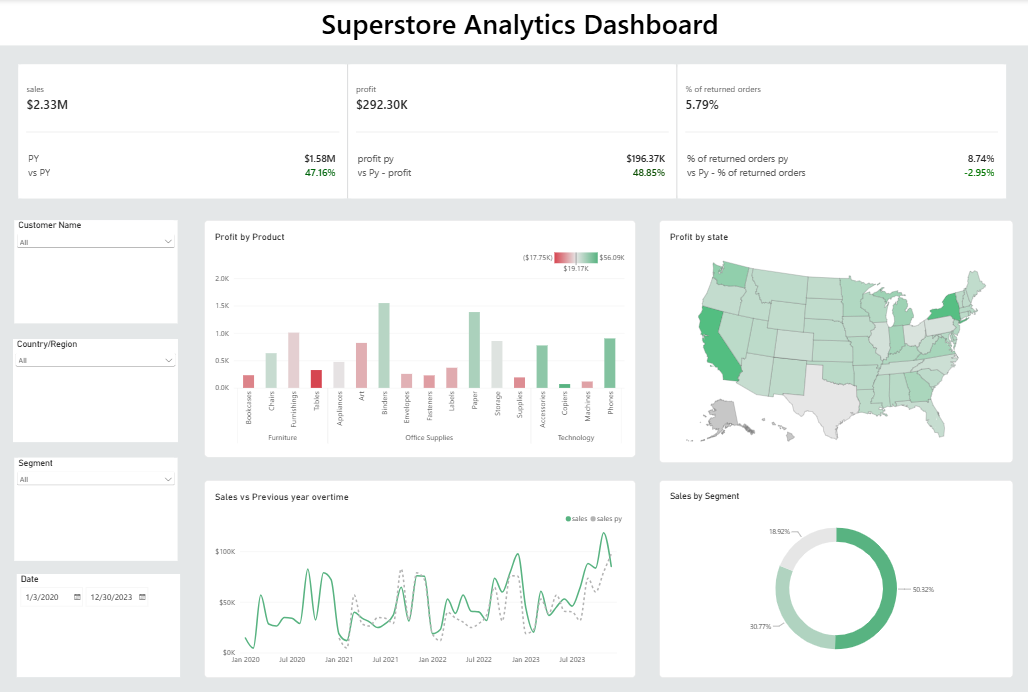

The dashboard page shown, as its layout file describes it:
{"tool":"powerbi","page":{"name":"Page 1","canvas":[2000,1350],"ordinal":0},"visuals":[{"type":"cardVisual","fields":{"Data":["key measures.sales","key measures.profit","key measures.% of returned orders"]},"box":[20,120,1956.7,280],"z":0},{"type":"shape","box":[0,0,2000,90],"z":1000},{"type":"lineChart","title":"Sales vs Previous year overtime ","fields":{"Category":["Date table.start of month"],"Y":["key measures.sales","key measures.sales py"]},"box":[400,933.3,836.7,383.3],"z":2000,"group":"g1"},{"type":"columnChart","title":"Profit by Product","fields":{"Category":["Orders.Category","Orders.Sub-Category"],"Y":["CountNonNull(Orders.Profit)"]},"box":[400,430,836.7,460],"z":3000,"group":"g1"},{"type":"shapeMap","title":"Profit by state","fields":{"Category":["Orders.State/Province"],"Value":["key measures.profit"]},"box":[1283.3,430,686.7,470],"z":4000,"group":"g1"},{"type":"donutChart","title":"Sales by Segment","fields":{"Category":["Orders.Segment"],"Y":["key measures.sales"]},"box":[1283.3,933.3,686.7,383.3],"z":5000,"group":"g1"},{"type":"slicer","fields":{"Values":["Orders.Customer Name"]},"box":[33.3,430,316.7,200],"z":5500,"group":"g1"},{"type":"slicer","fields":{"Values":["Orders.Segment"]},"box":[33.3,890,316.7,200],"z":6000,"group":"g1"},{"type":"slicer","fields":{"Values":["Date table.Date"]},"box":[36.7,1116.7,316.7,200],"z":6500,"group":"g1"},{"type":"slicer","fields":{"Values":["Orders.Country/Region"]},"box":[30,660,320,200],"z":7000,"group":"g1"},{"type":"group","id":"g1","title":"Group 1","box":[30,430,1940,886.7],"z":7001}]}

Visuals, with their boxes in screenshot pixels (x1, y1, x2, y2), scaled from the page's 2000x1350 canvas onto the 1028x692 screenshot:
cardVisual - key measures.sales x key measures.profit: {"x1": 10, "y1": 62, "x2": 1016, "y2": 205}
shape: {"x1": 0, "y1": 0, "x2": 1027, "y2": 46}
"Sales vs Previous year overtime " lineChart: {"x1": 206, "y1": 478, "x2": 636, "y2": 675}
"Profit by Product" columnChart: {"x1": 206, "y1": 220, "x2": 636, "y2": 456}
"Profit by state" shapeMap: {"x1": 660, "y1": 220, "x2": 1013, "y2": 461}
"Sales by Segment" donutChart: {"x1": 660, "y1": 478, "x2": 1013, "y2": 675}
slicer - Orders.Customer Name: {"x1": 17, "y1": 220, "x2": 180, "y2": 323}
slicer - Orders.Segment: {"x1": 17, "y1": 456, "x2": 180, "y2": 559}
slicer - Date table.Date: {"x1": 19, "y1": 572, "x2": 182, "y2": 675}
slicer - Orders.Country/Region: {"x1": 15, "y1": 338, "x2": 180, "y2": 441}
"Group 1" group: {"x1": 15, "y1": 220, "x2": 1013, "y2": 675}
